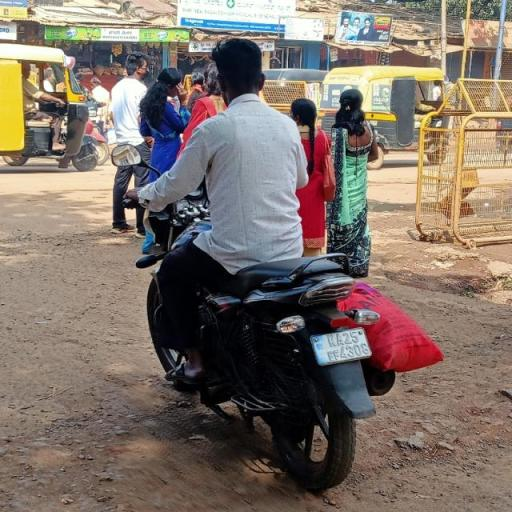bike: (94, 31, 448, 494)
numberplate: (304, 318, 378, 372)
withouthelmet: (213, 40, 265, 99)
